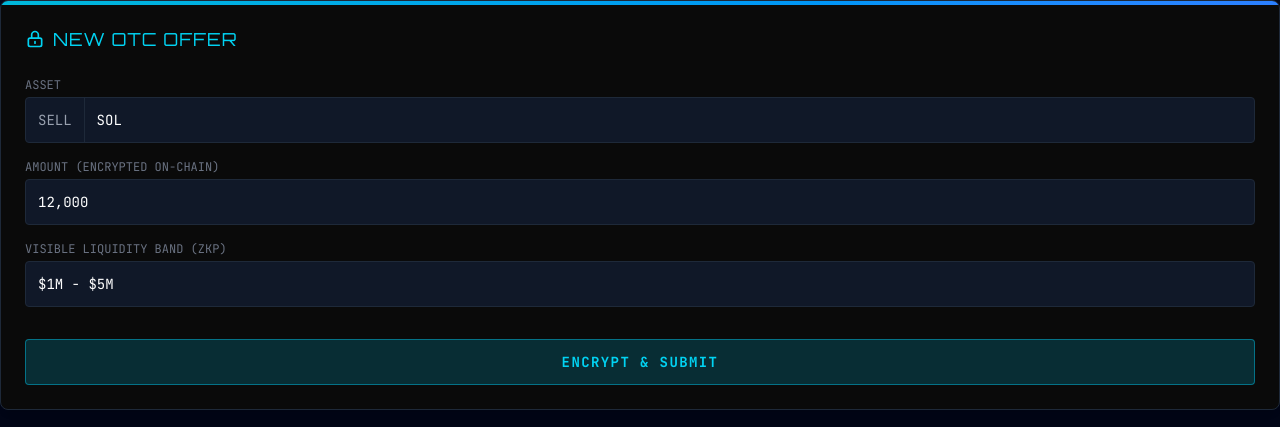
OrderCreator › shows submitted order ID after successful submission
Click the button at coordinates (640, 362), box [25, 339, 1255, 385]
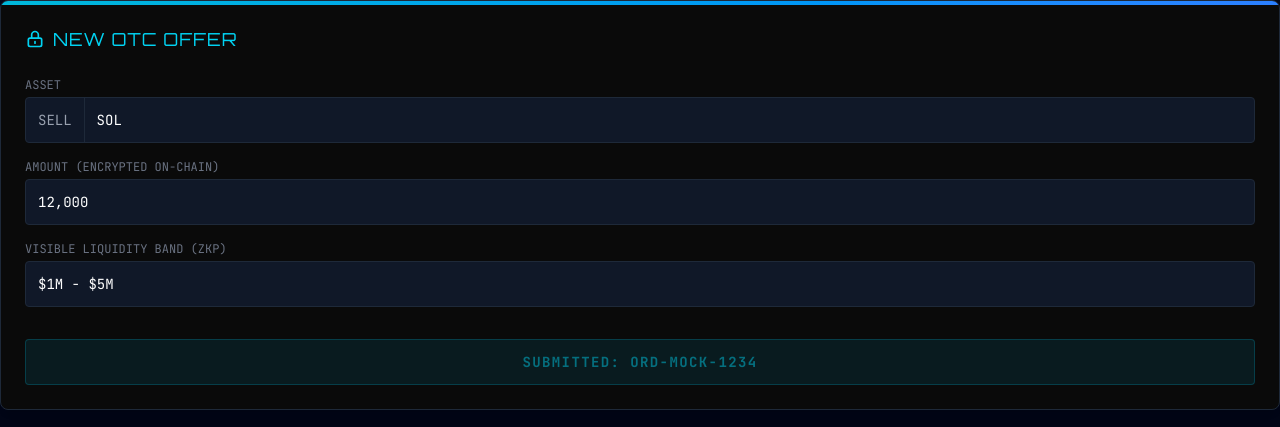
Result: the button "SUBMITTED: ORD-MOCK-1234" is shown at [25, 339, 1255, 385]
